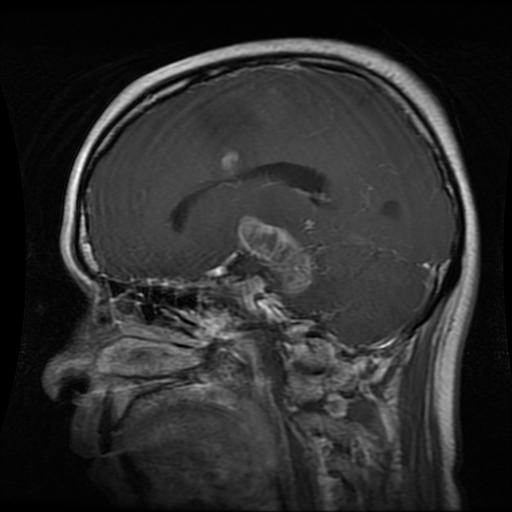Gliomia_tumour: (237, 214, 316, 297)
